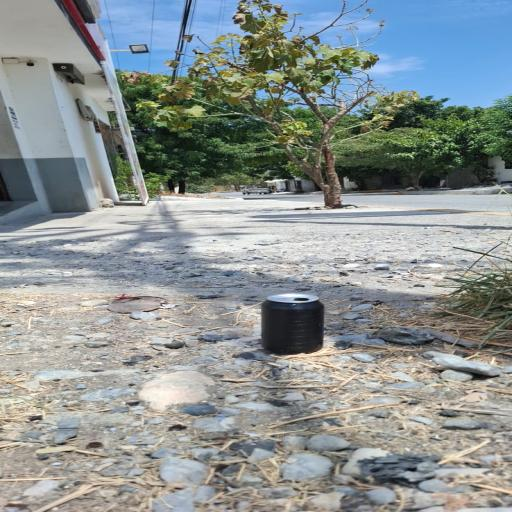LATA: (254, 290, 330, 363)
